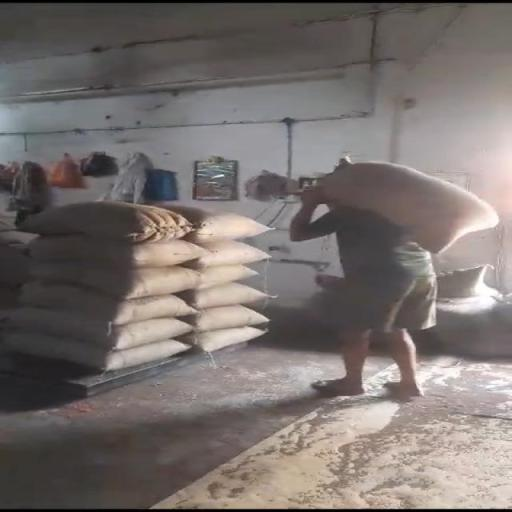c-belt-sack-count: (320, 162, 498, 253)
